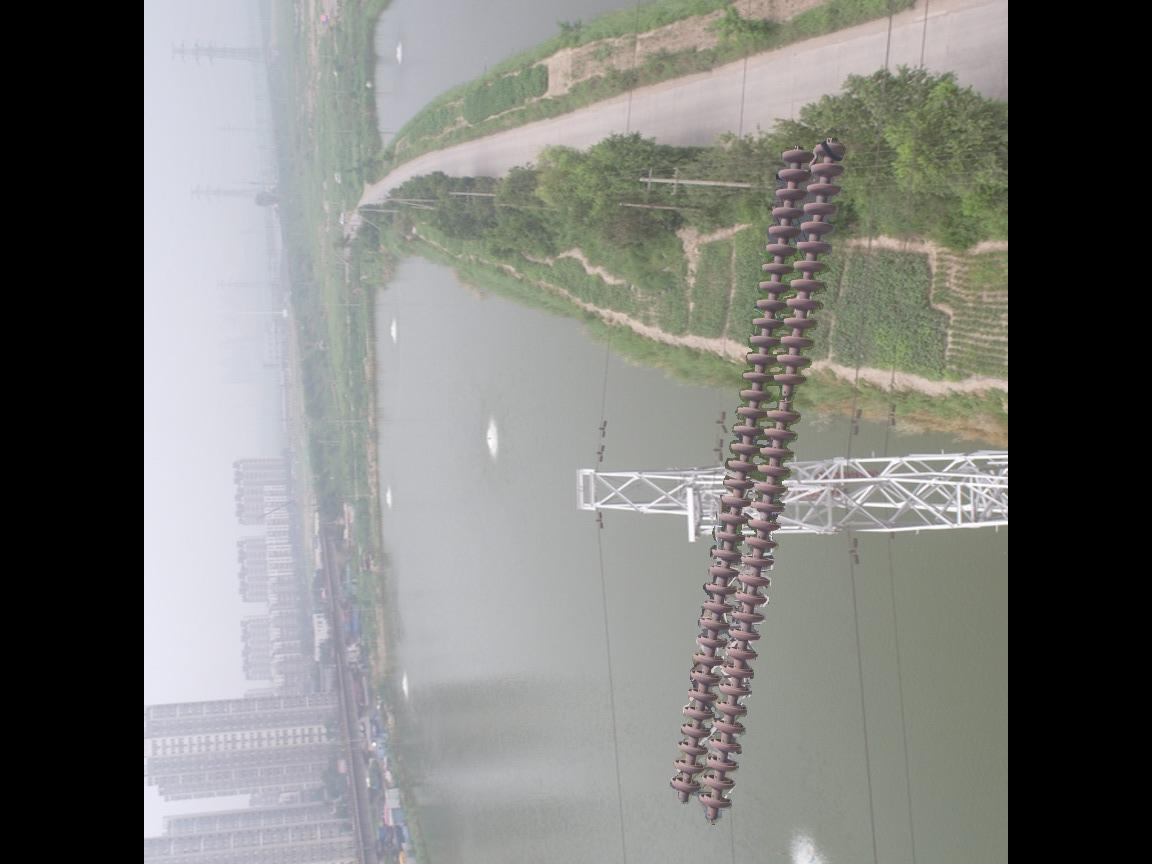insulator: (664, 133, 850, 825)
insulator_stringdrop: (763, 366, 810, 427)
